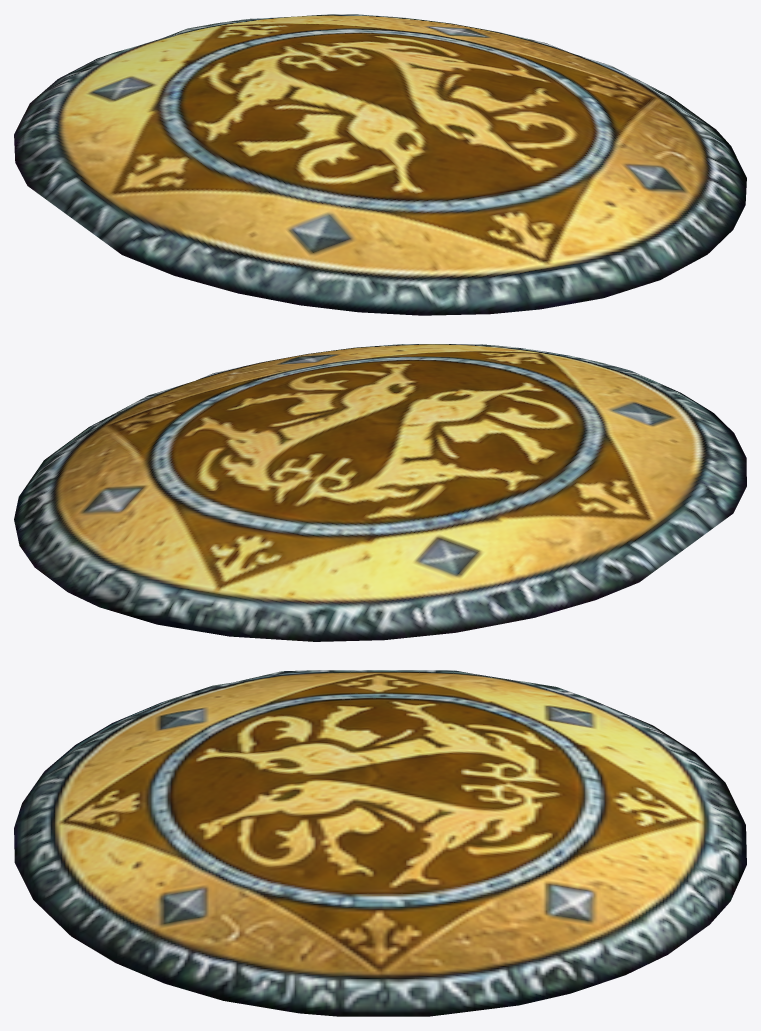
The model's file is item_6lshield7.glb.
The picture shows the model from 3 angles, top to bottom: view 1: azimuth 30°, elevation 25°; view 2: azimuth 150°, elevation 25°; view 3: azimuth 270°, elevation 25°; orthographic projection.
Visible parts, largest first — view 1: 6lshield7; view 2: 6lshield7; view 3: 6lshield7.
Part boxes in pixels (box(x1,y1,x2,y2)): 6lshield7: box(14, 14, 746, 315); 6lshield7: box(14, 344, 746, 641); 6lshield7: box(14, 670, 746, 1016).
Bounding box in the file's own units: 2.05 × 0.3023 × 2.13.
Materials: 1 (1 with a texture image).
